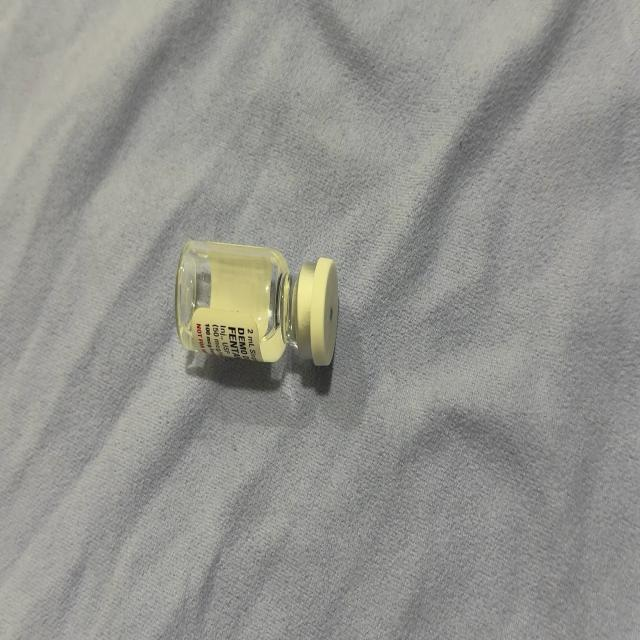fentanl_citrat: (177, 242, 336, 368)
